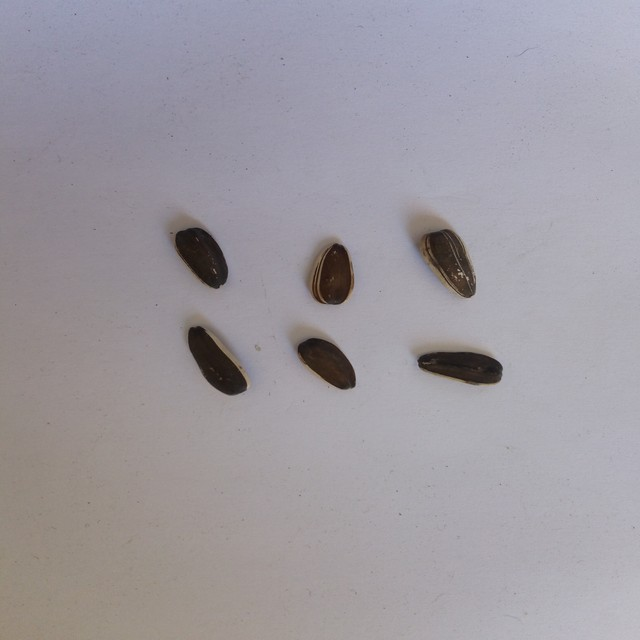girasol: (416, 220, 486, 304), (178, 320, 253, 398), (168, 219, 233, 294), (414, 346, 509, 395), (294, 331, 359, 394), (307, 236, 357, 314)
